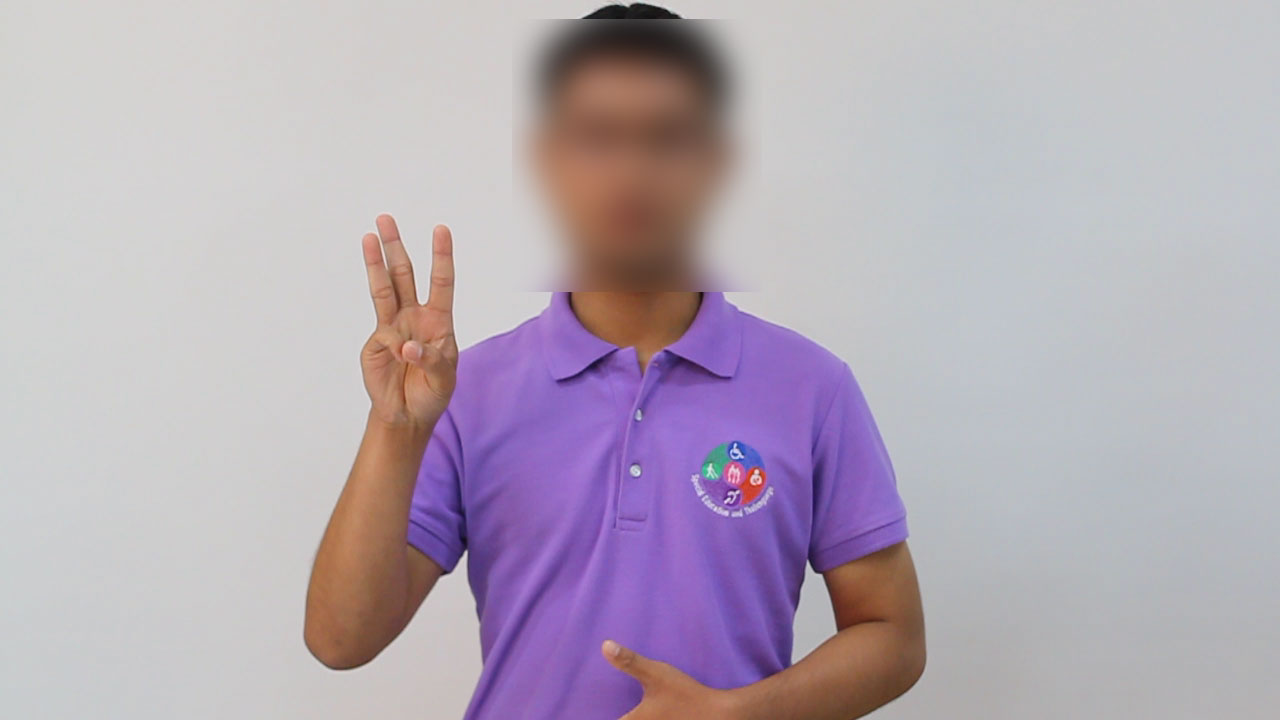wor: (353, 200, 462, 442)
